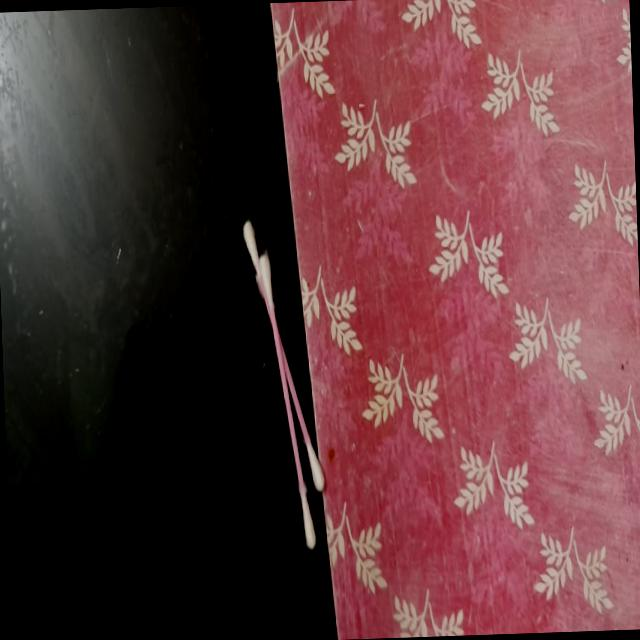Earbud - Non Recyclable: (240, 213, 328, 553)
